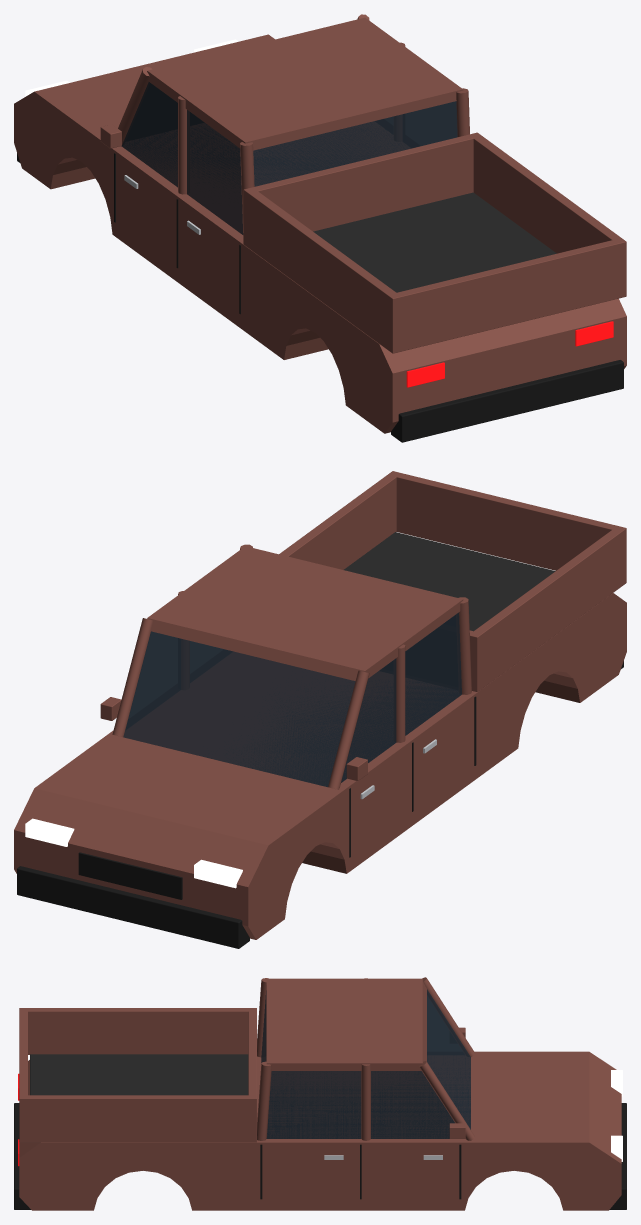
File: vehicle_truck.glb
3 renders of one model, top to bottom at view 1: azimuth 30°, elevation 25°; view 2: azimuth 150°, elevation 25°; view 3: azimuth 270°, elevation 25°, orthographic. The views are drawn at different scales.
Visible parts, largest first — view 1: car; view 2: car; view 3: car.
Boxes of the visible parts, left/top/right/bottom form: car: left=14, top=14, right=626, bottom=442; car: left=14, top=471, right=626, bottom=948; car: left=14, top=977, right=626, bottom=1210.
Bounding box in the file's own units: 2.2 × 1.51 × 5.7.
